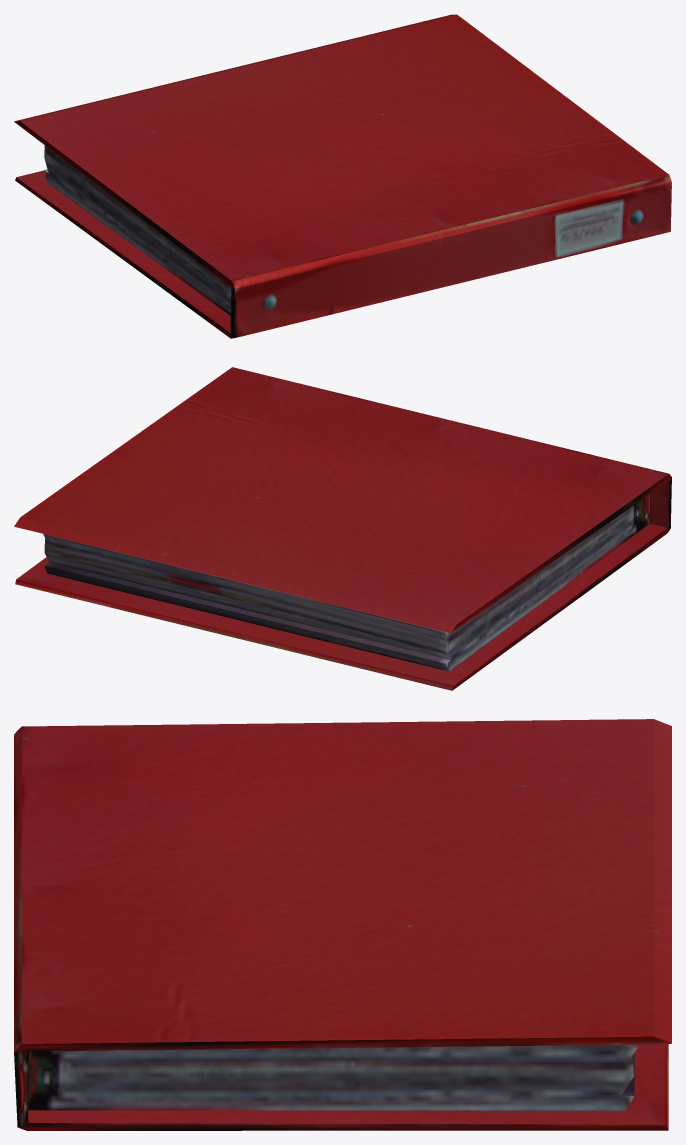
Rendered from binder-4.FBX.
3 renders of one model, top to bottom at view 1: azimuth 30°, elevation 25°; view 2: azimuth 150°, elevation 25°; view 3: azimuth 270°, elevation 25°, orthographic. The views are drawn at different scales.
Parts seen in each view (by area): view 1: Line01; view 2: Line01; view 3: Line01.
Part boxes in pixels (x1=…): Line01: x1=14, y1=14, x2=671, y2=338; Line01: x1=14, y1=367, x2=671, y2=690; Line01: x1=14, y1=719, x2=671, y2=1130.
Bounding box in the file's own units: 13.1 × 1.81 × 11.47.
